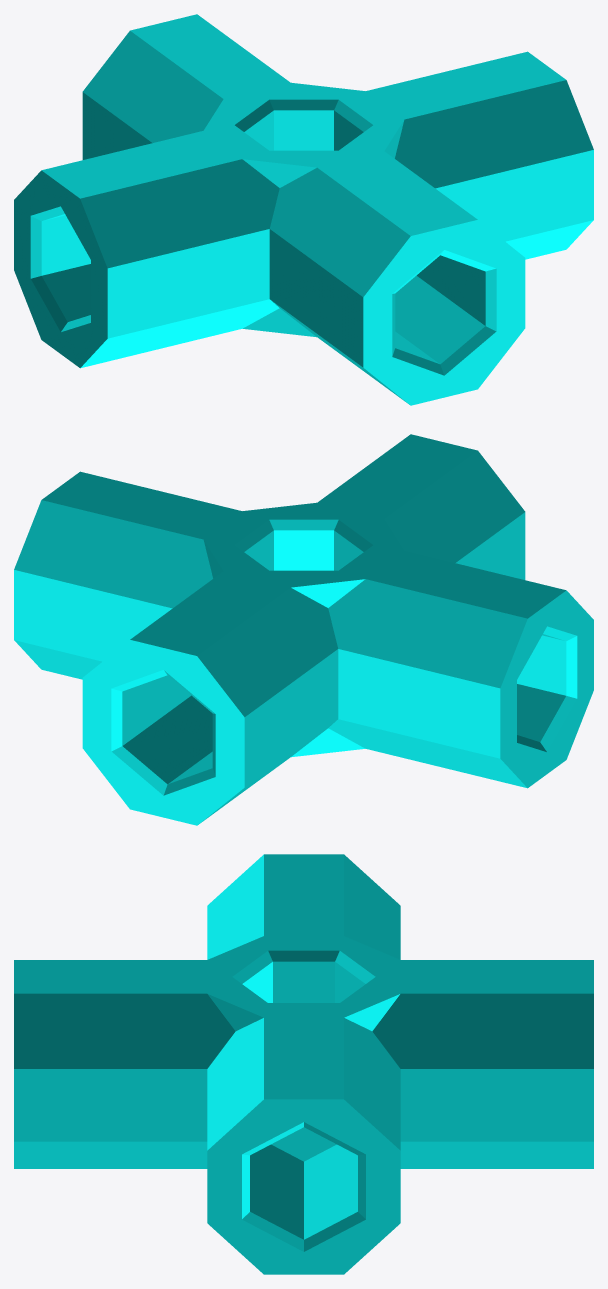
Rendered from 360 Connector.glb.
The picture shows the model from 3 angles, top to bottom: view 1: azimuth 30°, elevation 25°; view 2: azimuth 150°, elevation 25°; view 3: azimuth 270°, elevation 25°; orthographic projection. The views are drawn at different scales.
Visible parts, largest first — view 1: Node1; view 2: Node1; view 3: Node1.
Boxes of the visible parts, box(x1,y1,x2,y2) form: Node1: box(14, 14, 593, 405); Node1: box(14, 434, 593, 825); Node1: box(14, 854, 593, 1274).
Bounding box in the file's own units: 21 × 7 × 21.
